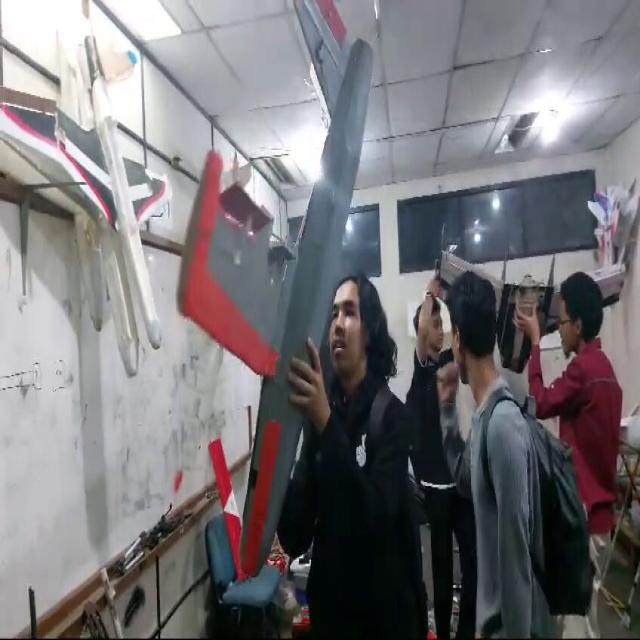plane: (168, 2, 380, 595)
